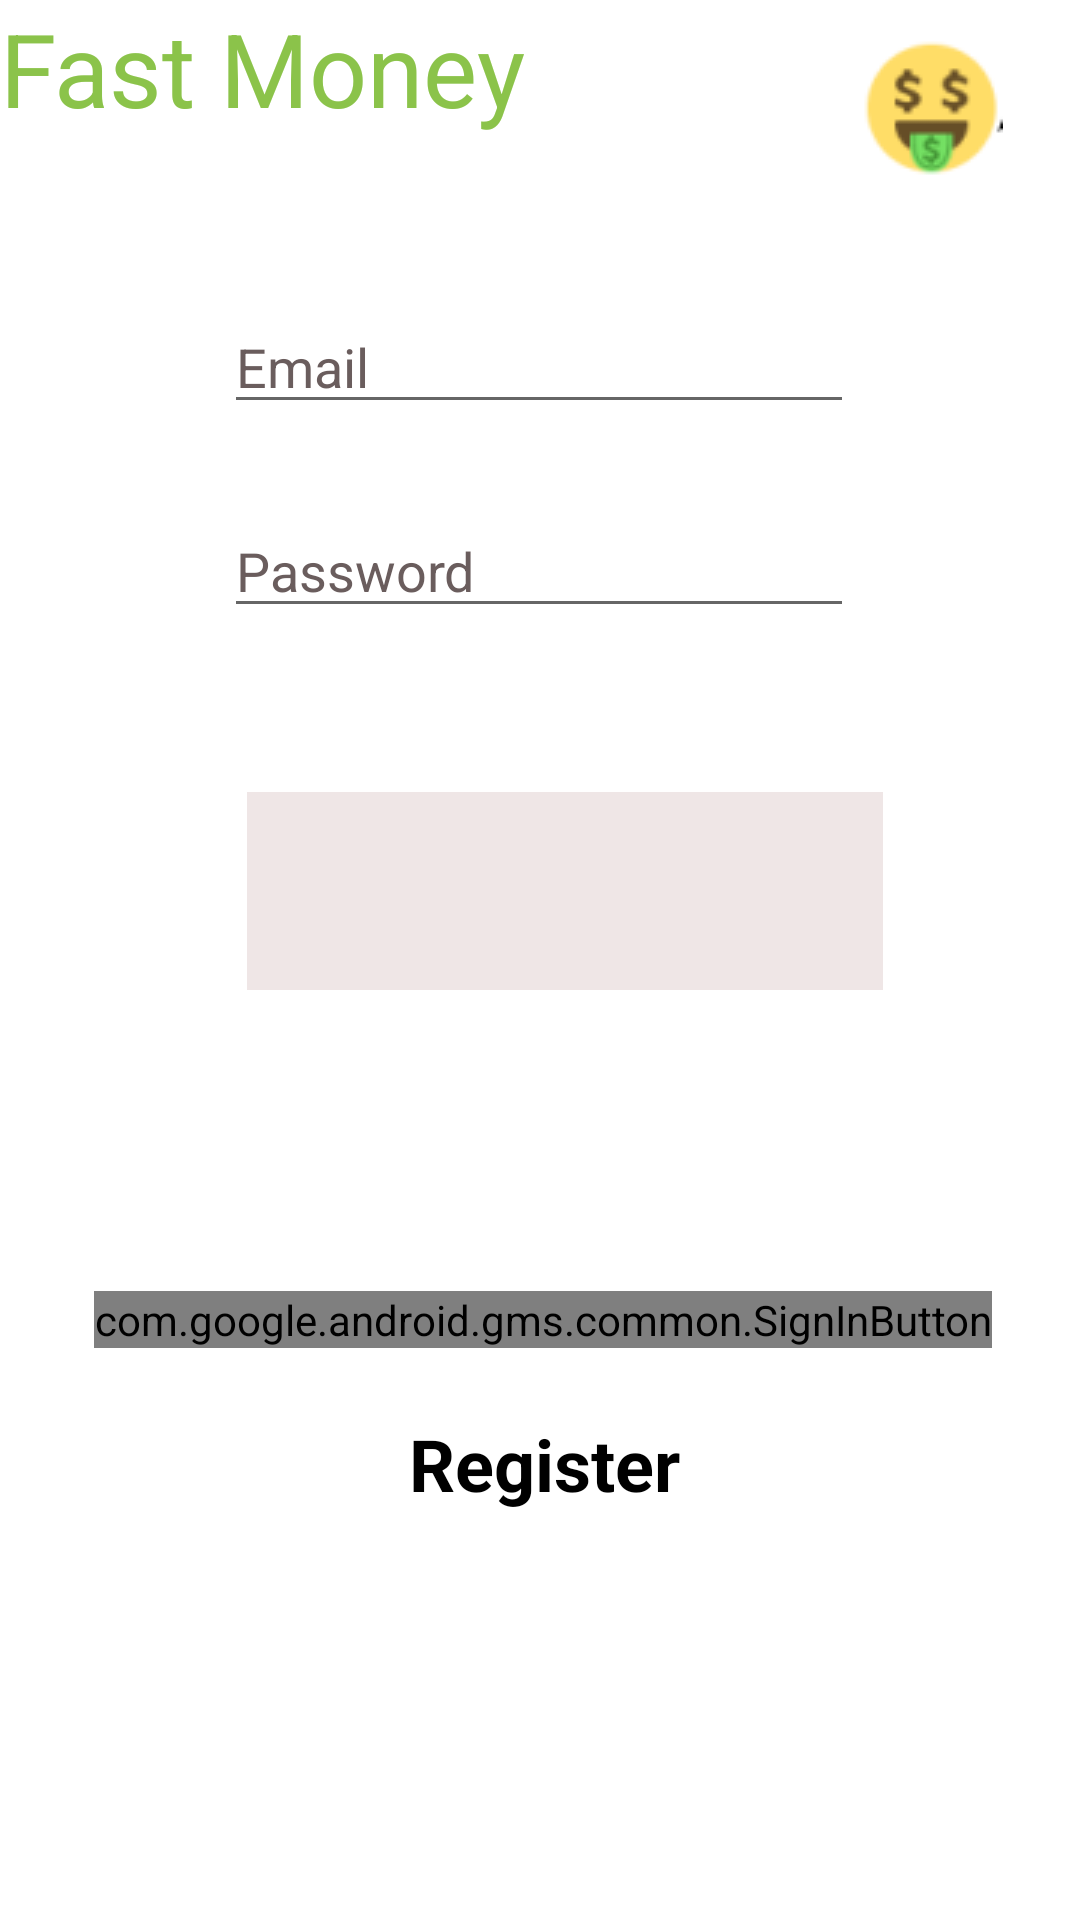

Point at icon controls on the screen. Image size 1080w x 1920h, points as (x=x, y=y).
happy: (x=934, y=108)
